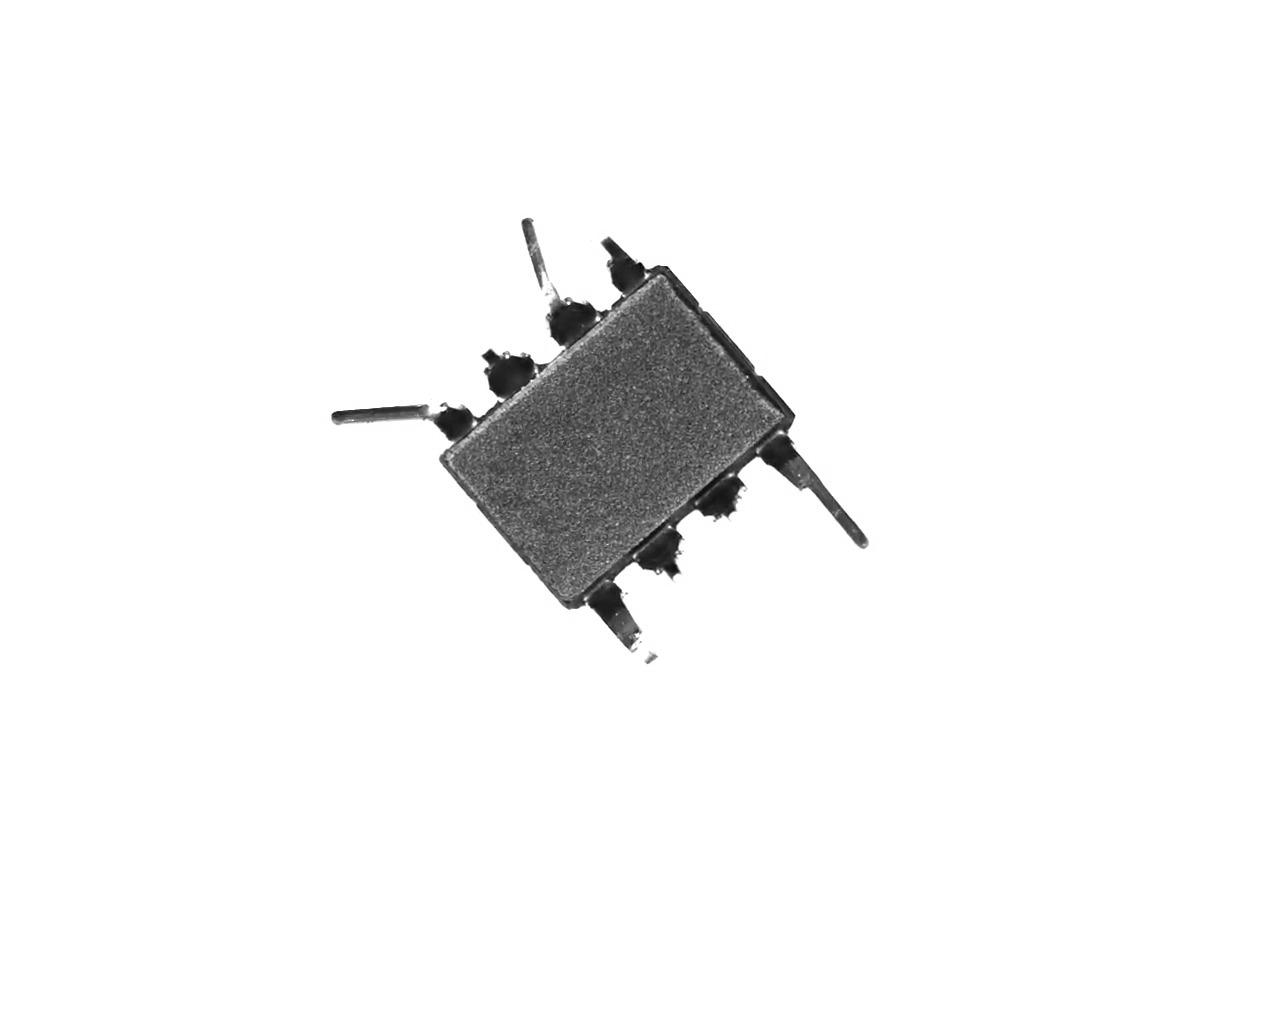Leg: (752, 439, 871, 553), (517, 210, 602, 349), (332, 393, 482, 444), (582, 583, 661, 673), (474, 343, 544, 401), (632, 514, 686, 588), (598, 234, 655, 300), (692, 466, 746, 533)
